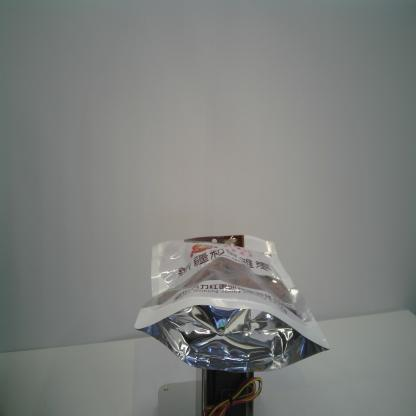Dried Food: (132, 232, 333, 376)
